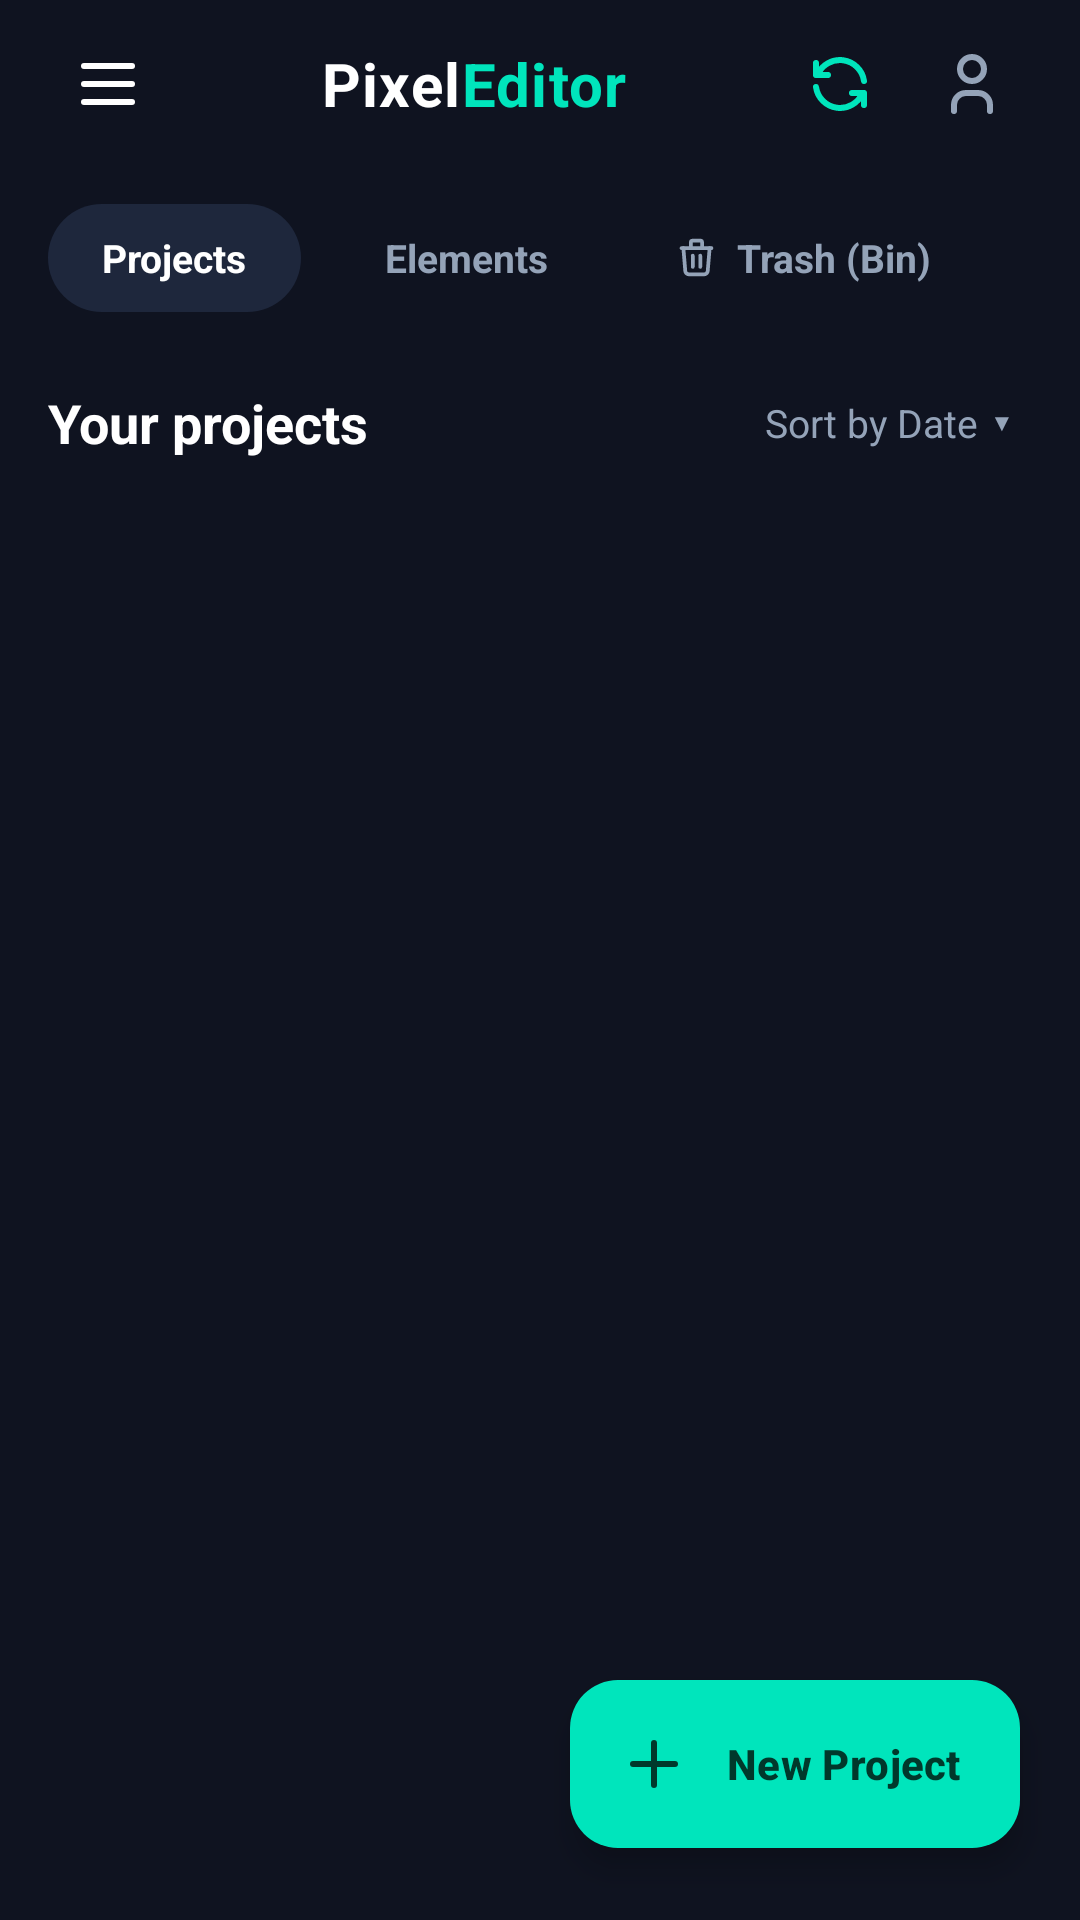

Screen size 1080×1920. Icon name, then its center in pixels as point (x, y):
pe menu: point (108, 84)
pe profile: point (972, 84)
pe restore: point (840, 84)
